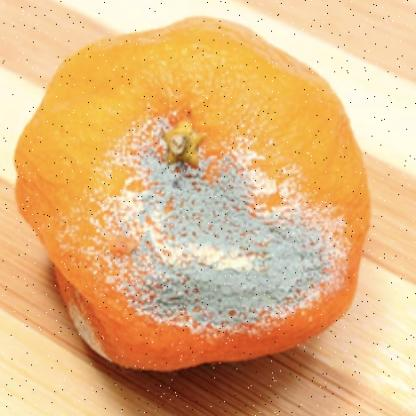rotten: (18, 15, 371, 374)
